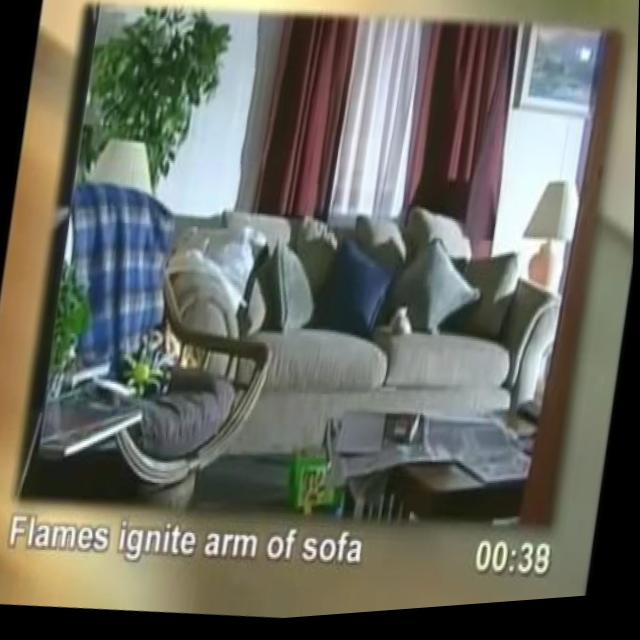fire: (166, 332, 195, 372)
